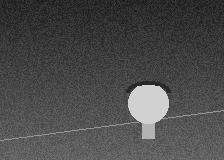no_helmet: (128, 81, 168, 128)
